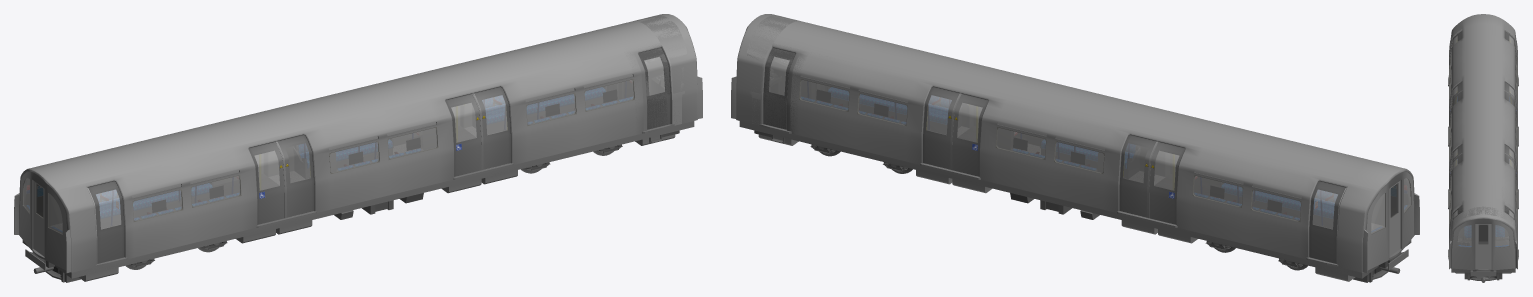
Rendered from LondonTube.fbx.
3 renders of one model, left to right at view 1: azimuth 30°, elevation 25°; view 2: azimuth 150°, elevation 25°; view 3: azimuth 270°, elevation 25°, orthographic. The views are drawn at different scales.
Visible parts, largest first — view 1: PassengerCar, LondonTubeCar; view 2: PassengerCar, LondonTubeCar; view 3: PassengerCar, LondonTubeCar.
Boxes of the visible parts, box(x1,y1,x2,y2) form: PassengerCar: box(14, 14, 702, 282); LondonTubeCar: box(23, 15, 687, 278); PassengerCar: box(731, 14, 1419, 282); LondonTubeCar: box(747, 15, 1410, 278); PassengerCar: box(1448, 14, 1518, 282); LondonTubeCar: box(1448, 36, 1517, 279).
Size of the model in its own units: 2235 by 359 by 325.
